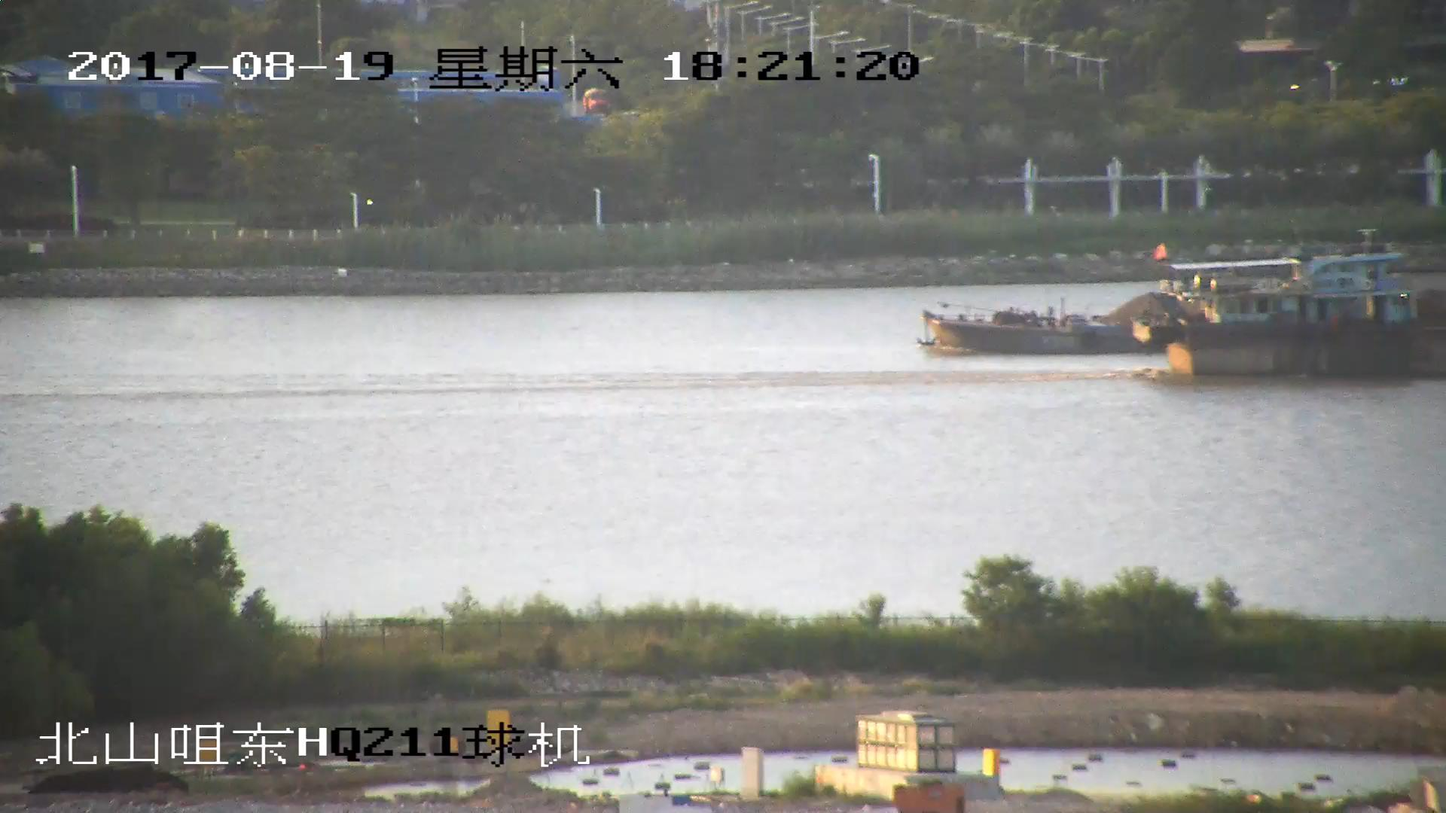bulk cargo carrier: (1155, 264, 1445, 374)
ore carrier: (921, 291, 1261, 349)
